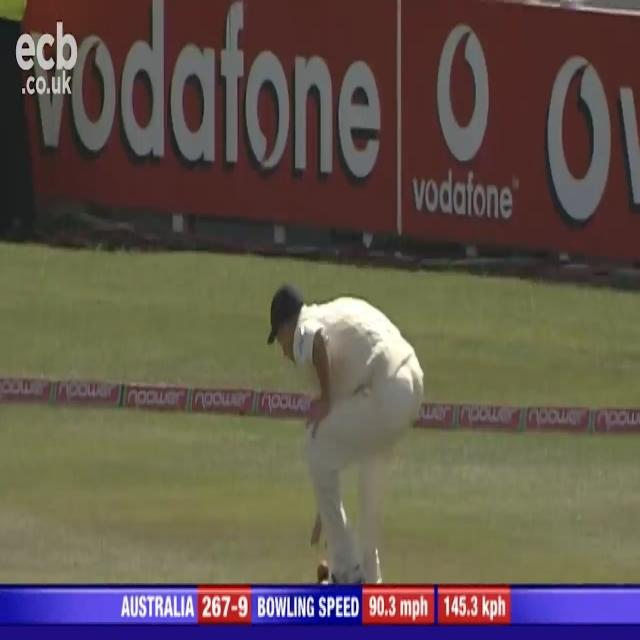ball: (314, 557, 330, 583)
